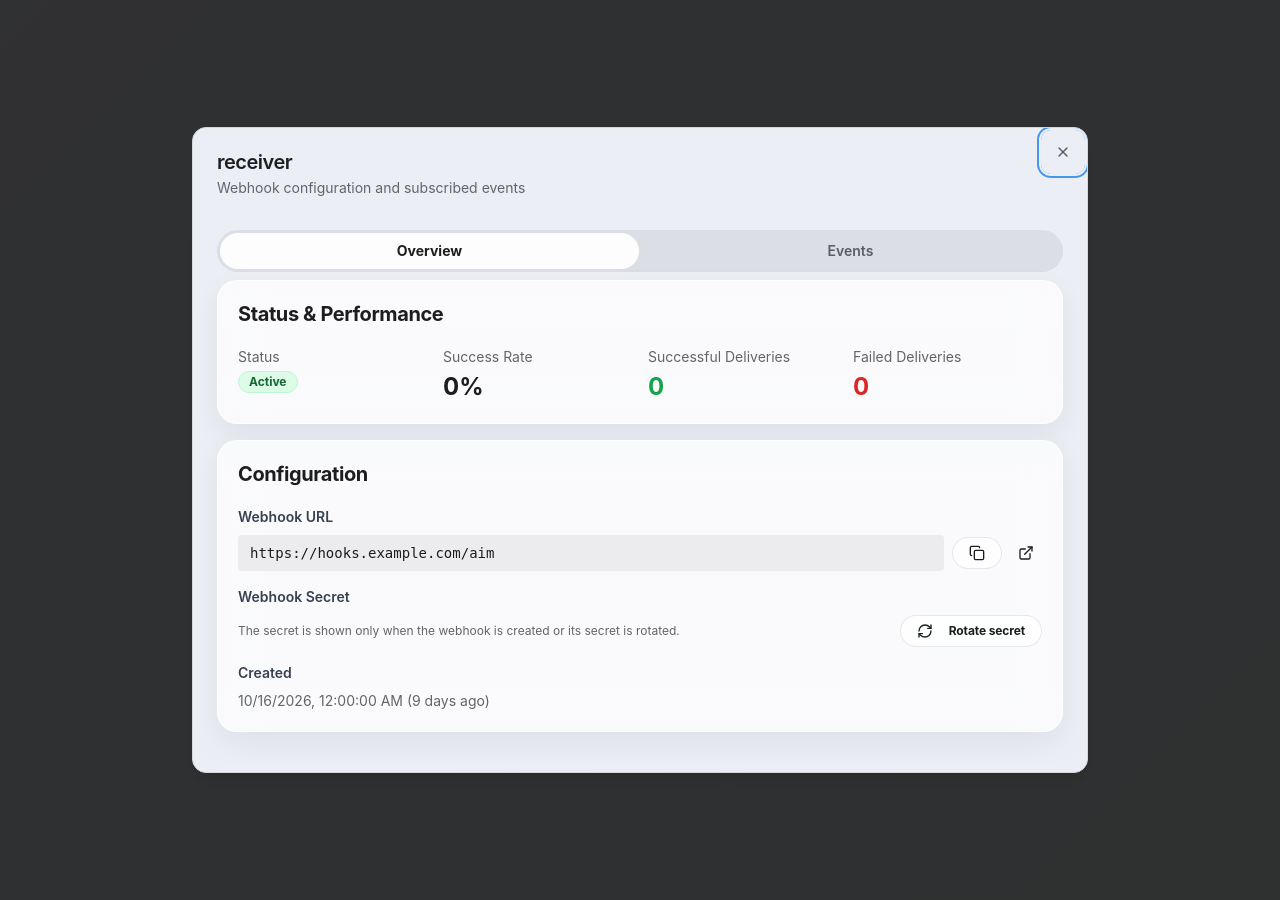
Test: webhook detail modal: secret › says why a rotation failed and shows no secret
Check: the text "https://hooks.example.com/aim" is shown, box [238, 535, 944, 571]
Click the button "Rotate secret". click: (971, 631)
box: [900, 615, 1042, 647]
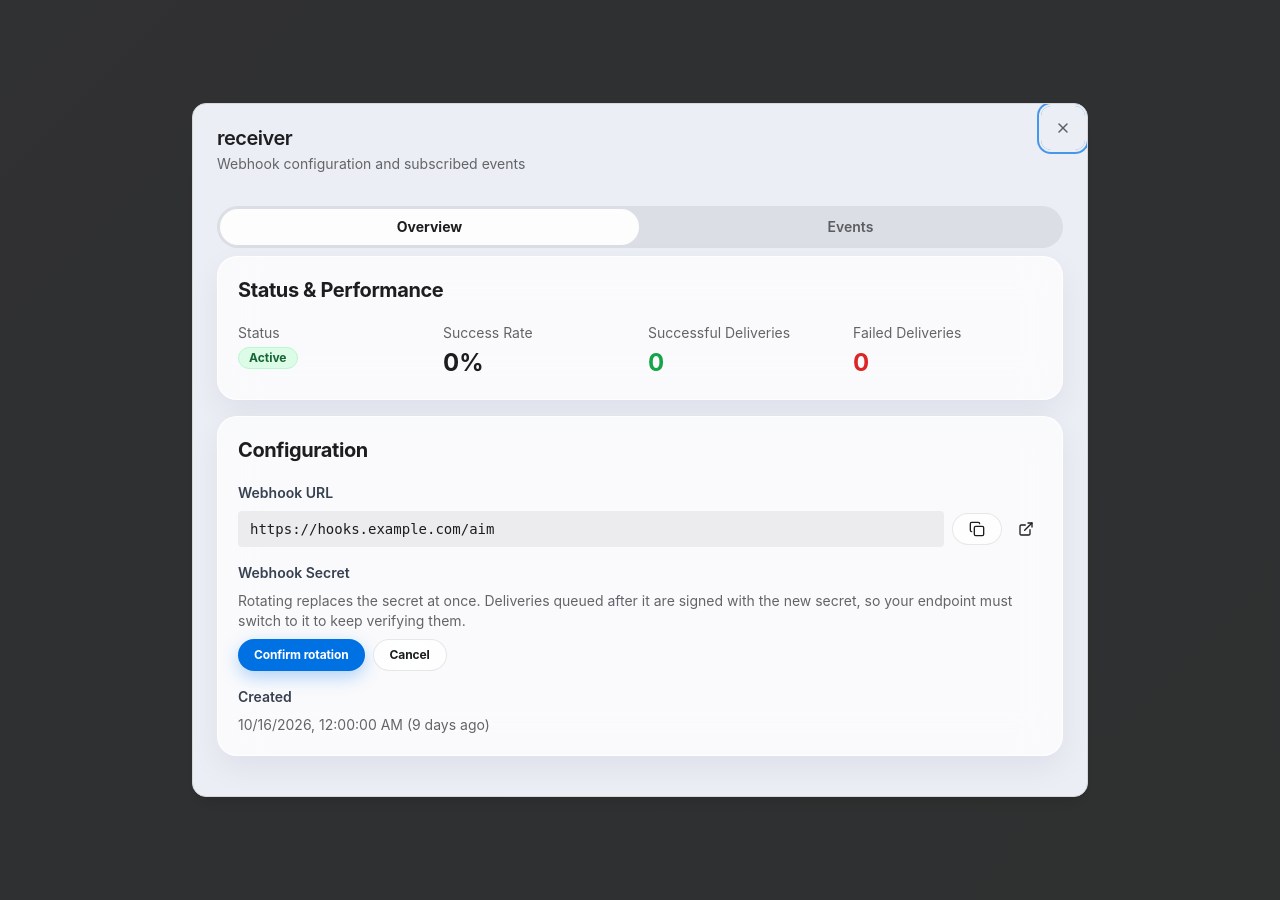
Click the button "Confirm rotation". click: (301, 655)
box: [238, 639, 364, 671]
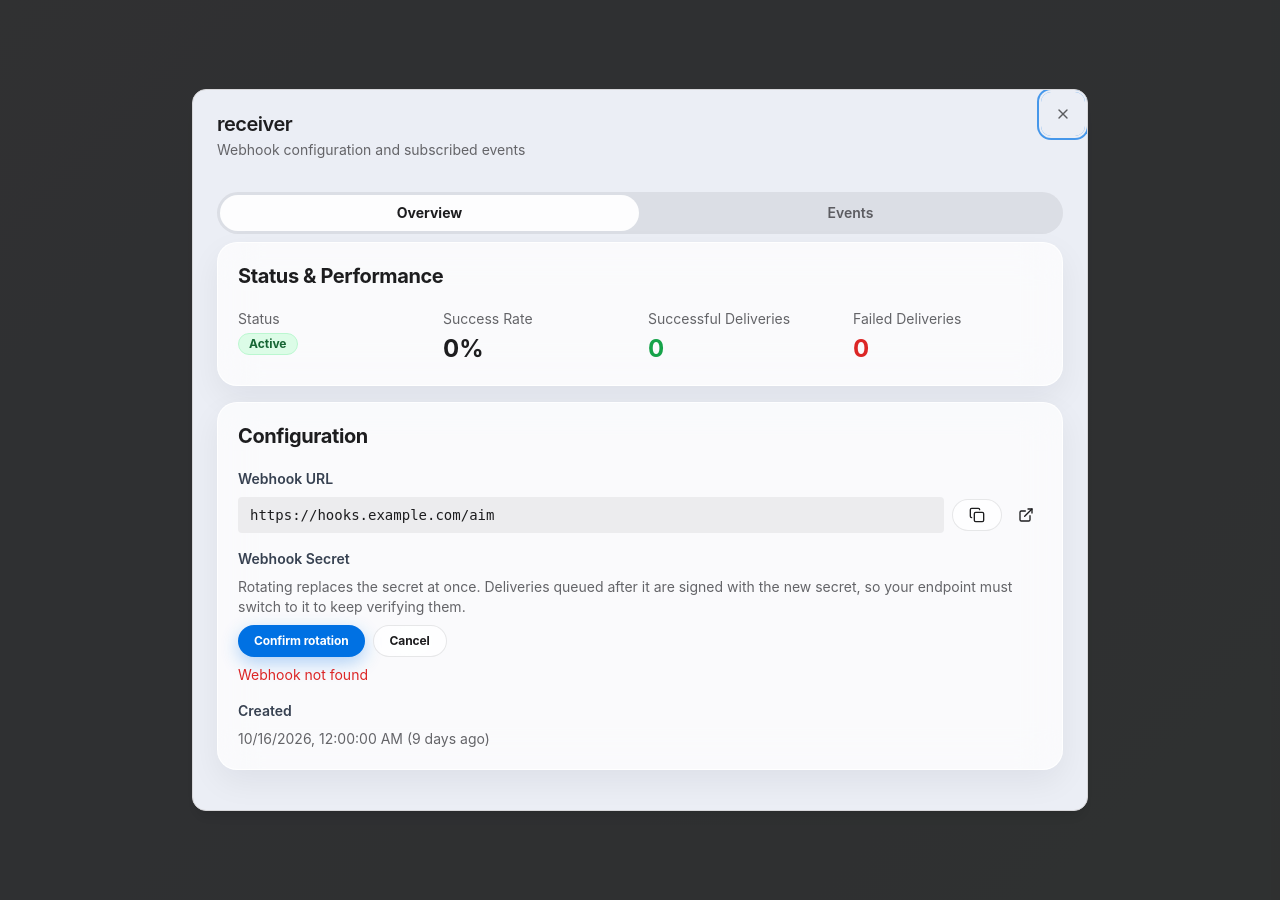
Check: the text "Webhook not found" is shown, box [238, 666, 368, 683]
